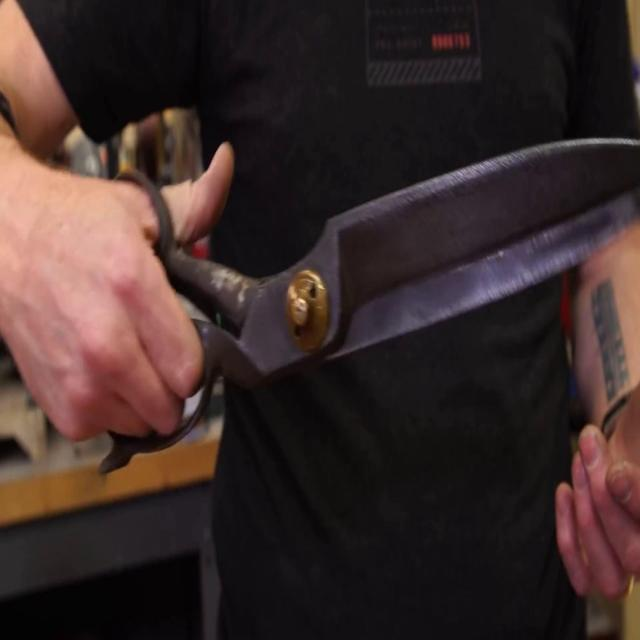scissor: (114, 142, 640, 451)
